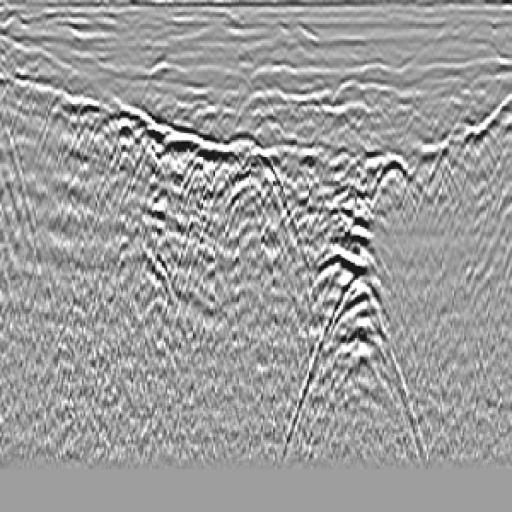metalic: (185, 114, 330, 309)
